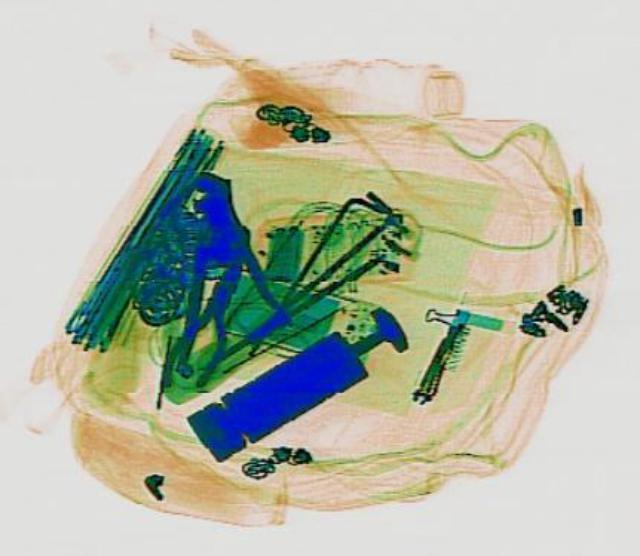Pliers: (141, 162, 295, 376), (160, 255, 258, 387)
